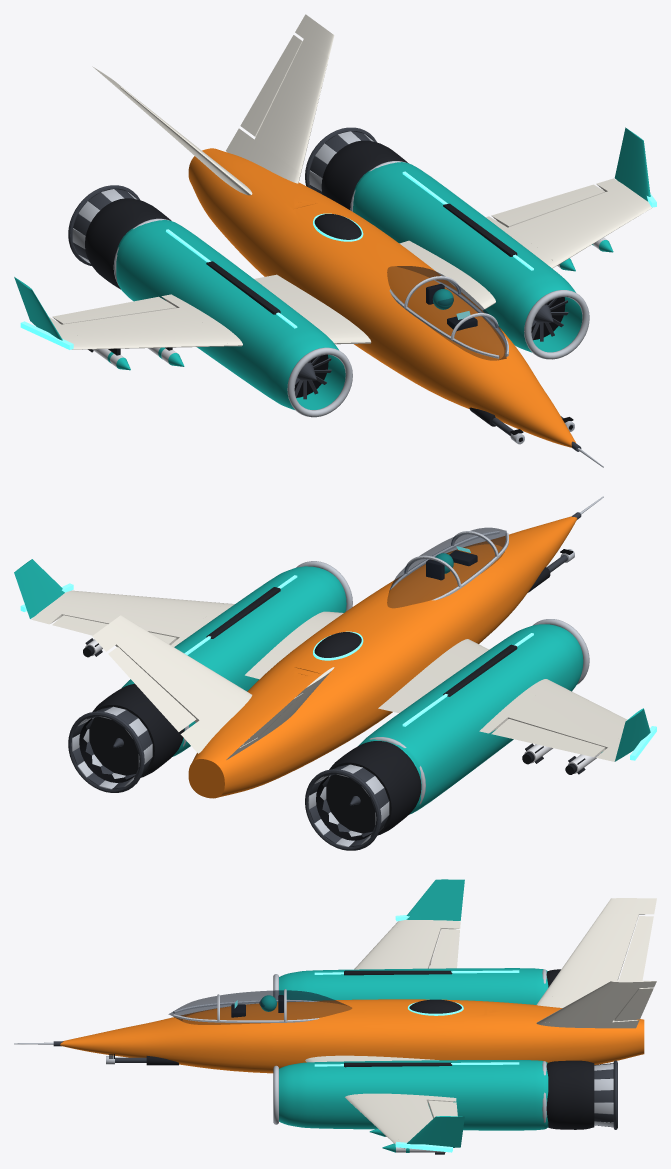
File: nomad.glb
3 renders of one model, top to bottom at view 1: azimuth 30°, elevation 25°; view 2: azimuth 150°, elevation 25°; view 3: azimuth 270°, elevation 25°, orthographic. The views are drawn at different scales.
Visible parts, largest first — view 1: SHIP; view 2: SHIP; view 3: SHIP.
Part boxes in pixels (x1,y1,x2,y2): SHIP: (14, 14, 656, 467); SHIP: (14, 496, 656, 850); SHIP: (14, 879, 656, 1154).
Bounding box in the file's own units: 13.5 × 3.75 × 15.4.
